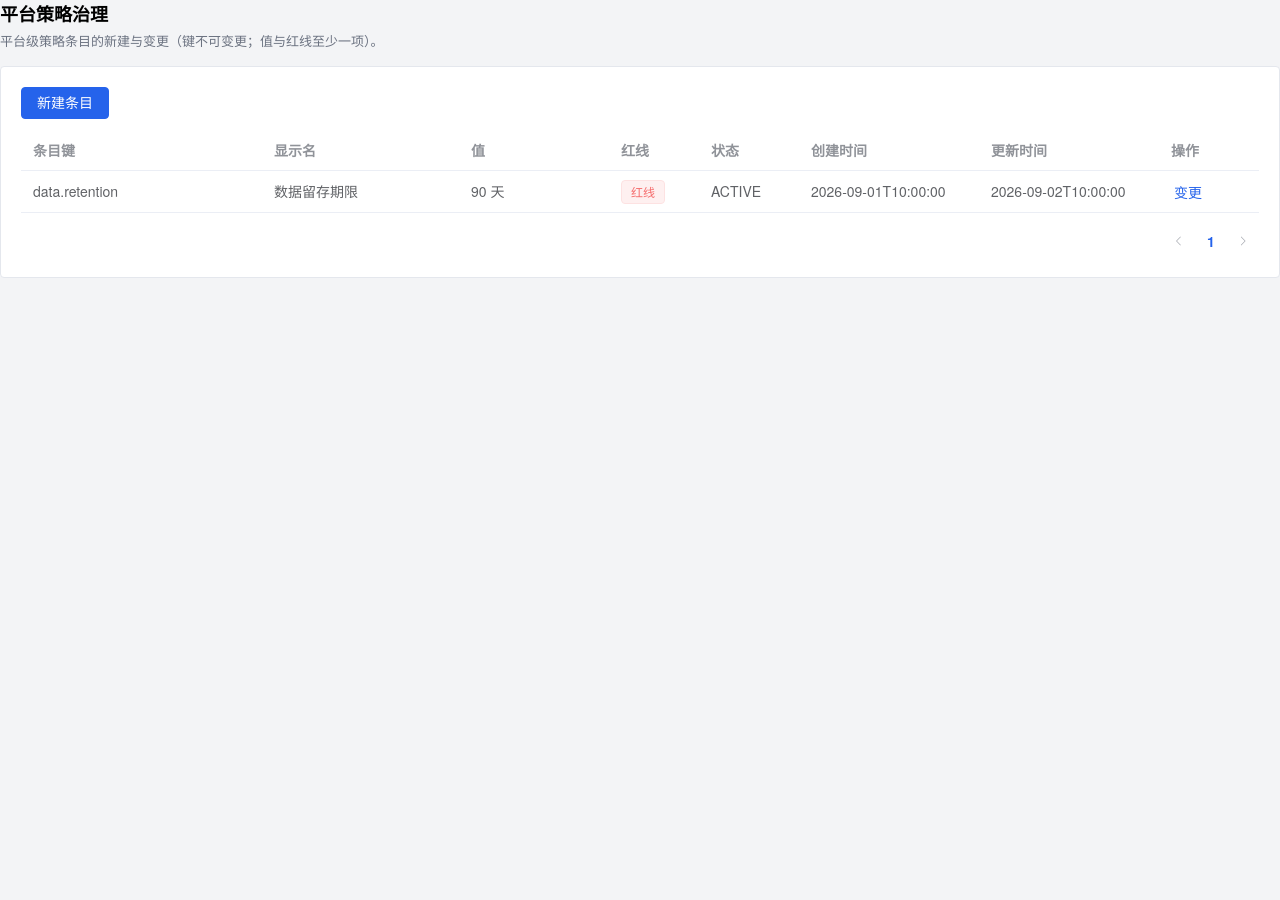
变更条目（T26） › 值与红线均未变更：前置拦截（零请求）
The image size is (1280, 900).
Click the button "变更".
click(1188, 193)  # box 1171,183 -> 1205,203
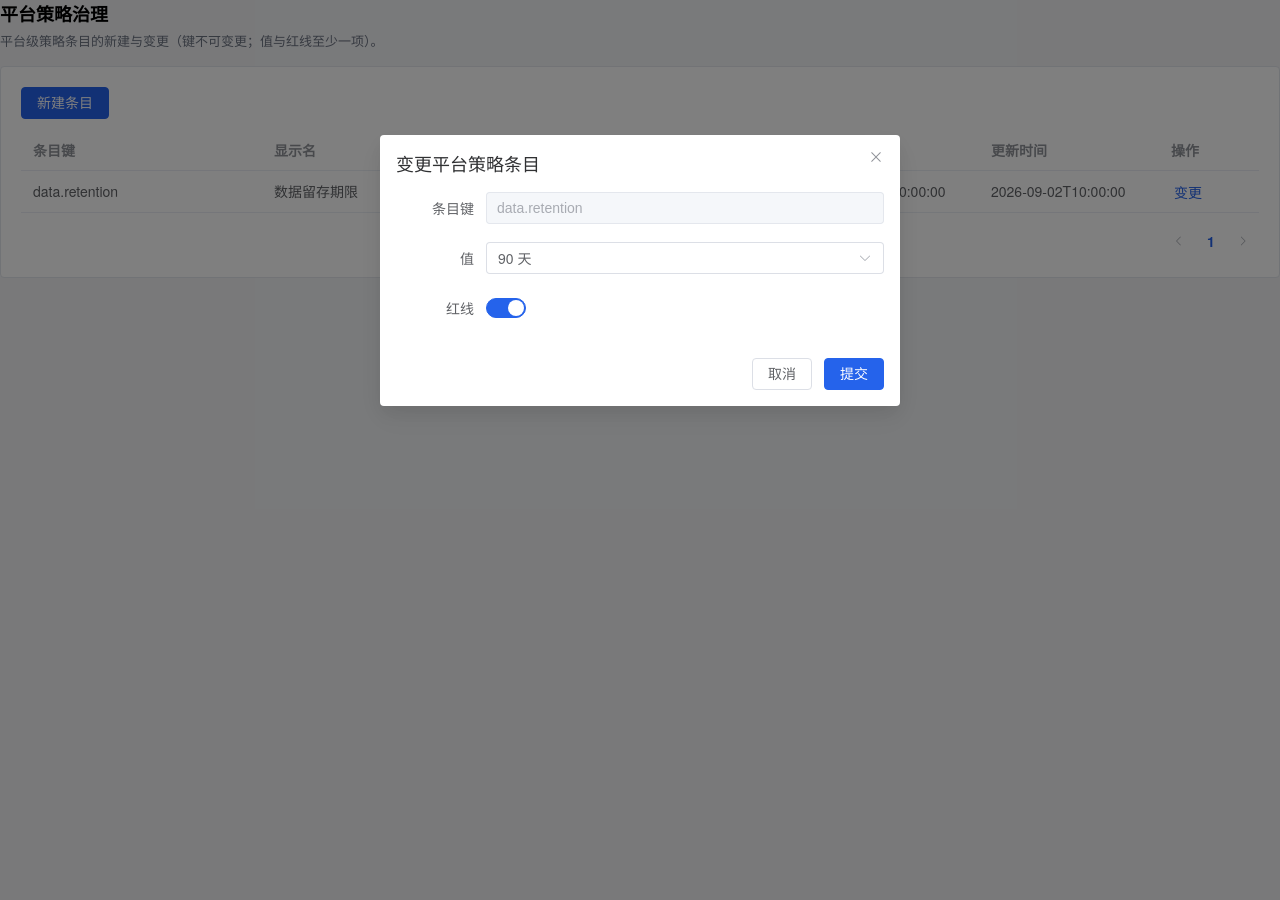
Click the button "提交".
click(854, 374)  # box 824,358 -> 884,390
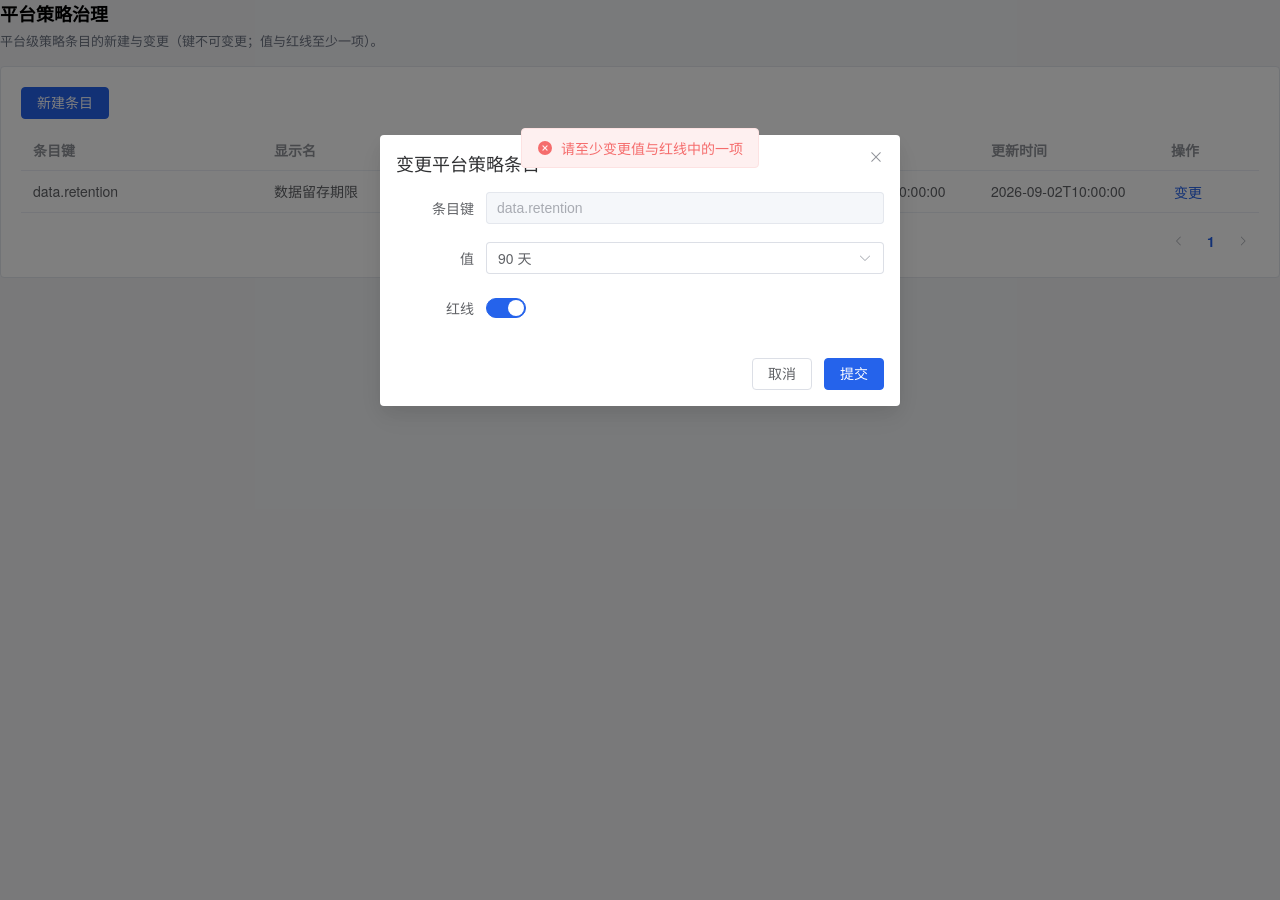
Check: the text "请至少变更值与红线中的一项" is shown, box 561,141 -> 743,155
